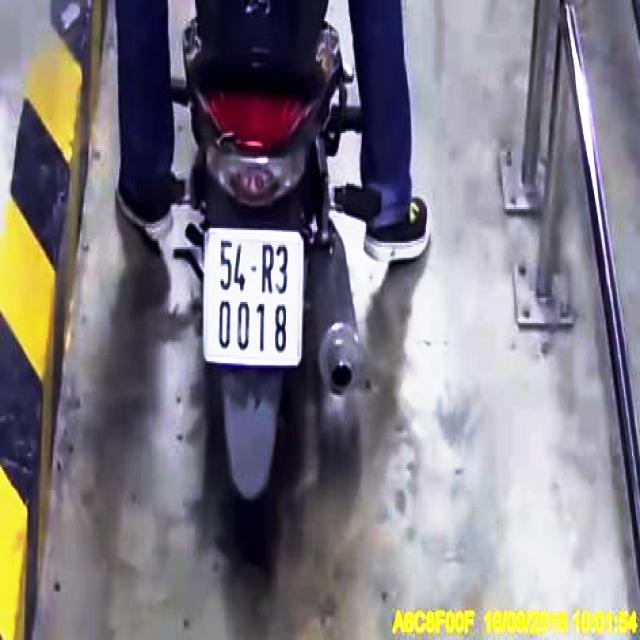license_plate: (206, 228, 306, 365)
